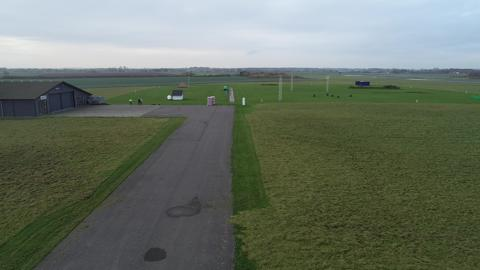RockwoolPallet: (211, 95, 217, 106)
